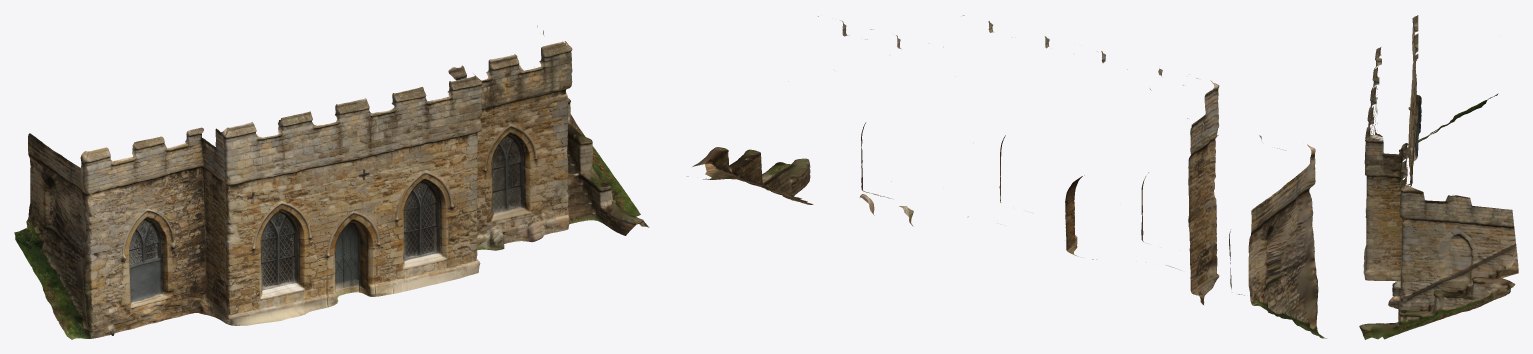
The model's file is stone_block.glb.
The picture shows the model from 3 angles, left to right: view 1: azimuth 30°, elevation 25°; view 2: azimuth 150°, elevation 25°; view 3: azimuth 270°, elevation 25°; orthographic projection. The views are drawn at different scales.
Visible parts, largest first — view 1: Default_bath_house_0; view 2: Default_bath_house_0; view 3: Default_bath_house_0.
Boxes of the visible parts, x1,y1,x2,y2 form: Default_bath_house_0: (14, 25, 649, 339); Default_bath_house_0: (687, 15, 1326, 338); Default_bath_house_0: (1359, 15, 1518, 339).
Size of the model in its own units: 1605 by 544 by 536.
1 material, 1 textured.
